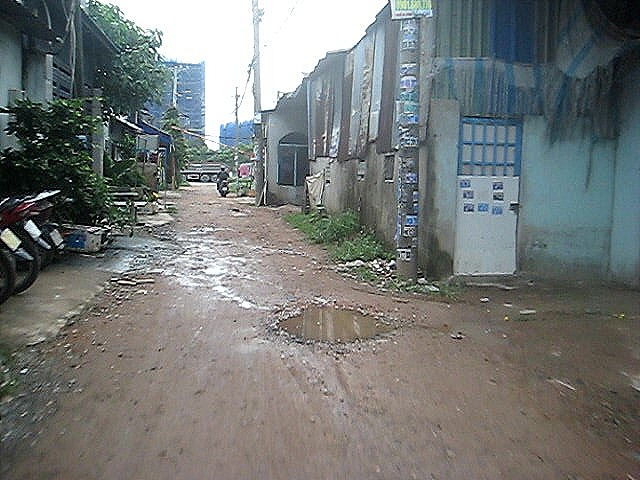hole: (258, 299, 417, 354), (201, 260, 232, 278), (189, 224, 220, 236), (181, 245, 214, 256)
